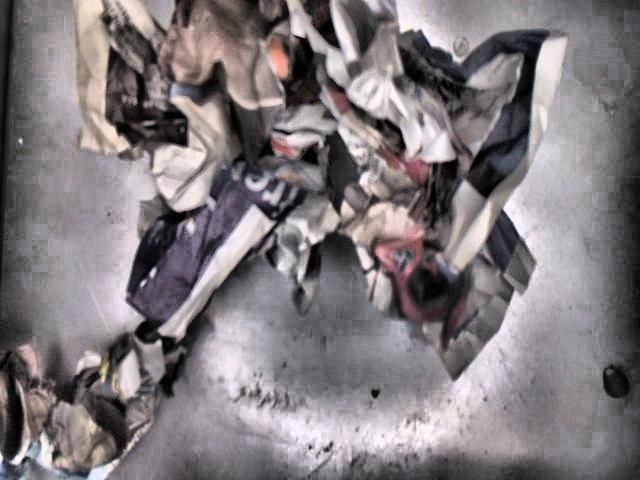Paper: (6, 1, 565, 480)
